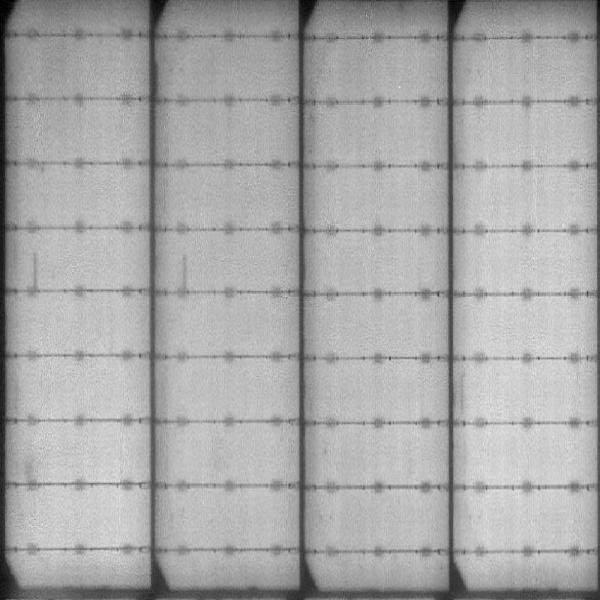scratch: (28, 247, 42, 292), (179, 251, 190, 296)
